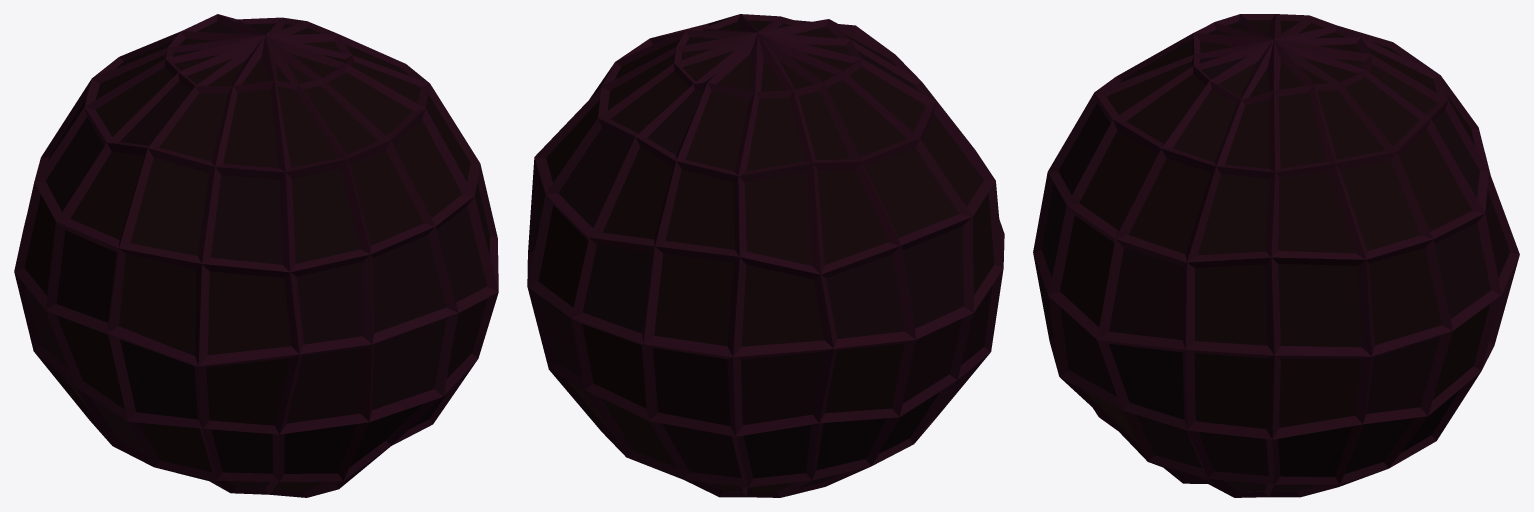
File: Barreira.obj
The picture shows the model from 3 angles, left to right: view 1: azimuth 30°, elevation 25°; view 2: azimuth 150°, elevation 25°; view 3: azimuth 270°, elevation 25°; orthographic projection.
Parts seen in each view (by area): view 1: Esfera_UV; view 2: Esfera_UV; view 3: Esfera_UV.
Part boxes in pixels (x1=…): Esfera_UV: x1=14, y1=14, x2=498, y2=497; Esfera_UV: x1=527, y1=14, x2=1004, y2=497; Esfera_UV: x1=1033, y1=14, x2=1519, y2=497.
Bounding box in the file's own units: 3.54 × 3.54 × 3.53.
